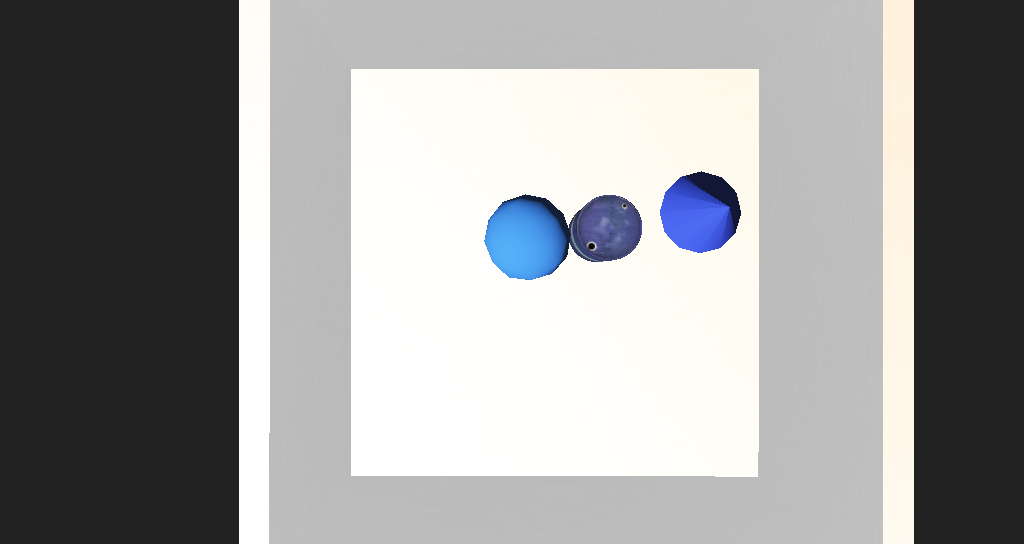cone: (512, 231, 566, 265)
cylinder: (586, 210, 653, 258)
sphere: (455, 231, 515, 274)
